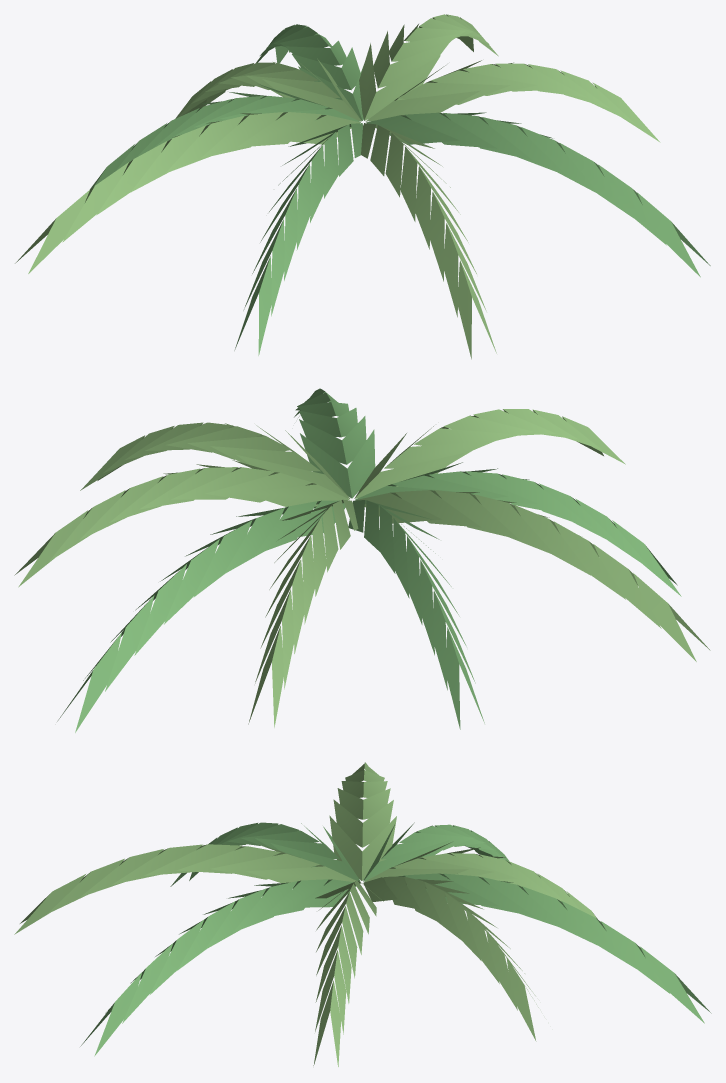
Rendered from farn_1.glb.
The picture shows the model from 3 angles, top to bottom: view 1: azimuth 30°, elevation 25°; view 2: azimuth 150°, elevation 25°; view 3: azimuth 270°, elevation 25°; orthographic projection. The views are drawn at different scales.
Visible parts, largest first — view 1: G_farn_1; view 2: G_farn_1; view 3: G_farn_1.
Boxes of the visible parts, x1,y1,x2,y2 form: G_farn_1: (15, 14, 710, 359); G_farn_1: (14, 388, 710, 732); G_farn_1: (14, 762, 711, 1066).
Size of the model in its own units: 3.06 by 0.6955 by 3.25.
